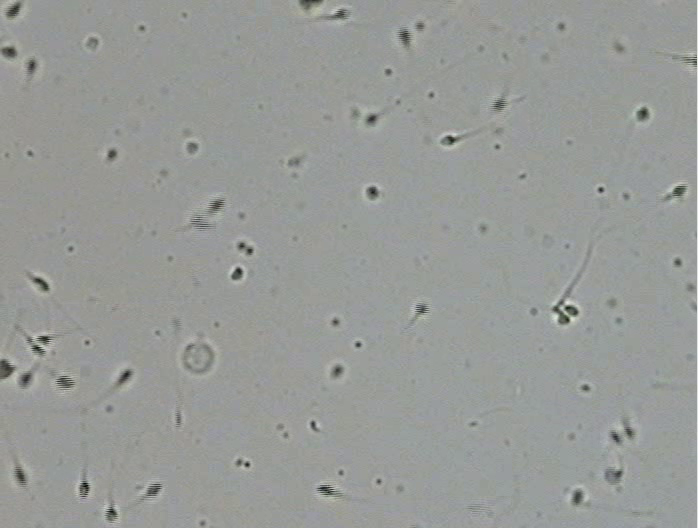Impurity: (183, 343, 213, 374), (86, 37, 99, 50)
S: (12, 466, 28, 488), (190, 215, 211, 231), (604, 467, 622, 485), (207, 197, 226, 214), (55, 375, 75, 391), (30, 277, 50, 292), (1, 358, 15, 379), (4, 2, 21, 19), (396, 28, 412, 46), (29, 341, 46, 357), (116, 370, 133, 386), (104, 506, 119, 523), (316, 484, 337, 496), (146, 483, 162, 498), (78, 480, 90, 499), (18, 372, 33, 387), (491, 97, 507, 111), (334, 8, 352, 20), (636, 106, 649, 122), (571, 489, 584, 505), (1, 46, 18, 58), (25, 58, 36, 76), (35, 335, 53, 346), (672, 184, 687, 197), (299, 1, 323, 9), (186, 141, 199, 155), (231, 266, 244, 280), (415, 302, 429, 315), (366, 186, 378, 201), (685, 53, 697, 68), (439, 135, 455, 146), (331, 365, 343, 378), (610, 430, 621, 444), (564, 305, 578, 316), (107, 148, 118, 161), (624, 426, 635, 439), (558, 314, 570, 324), (365, 114, 376, 124)
